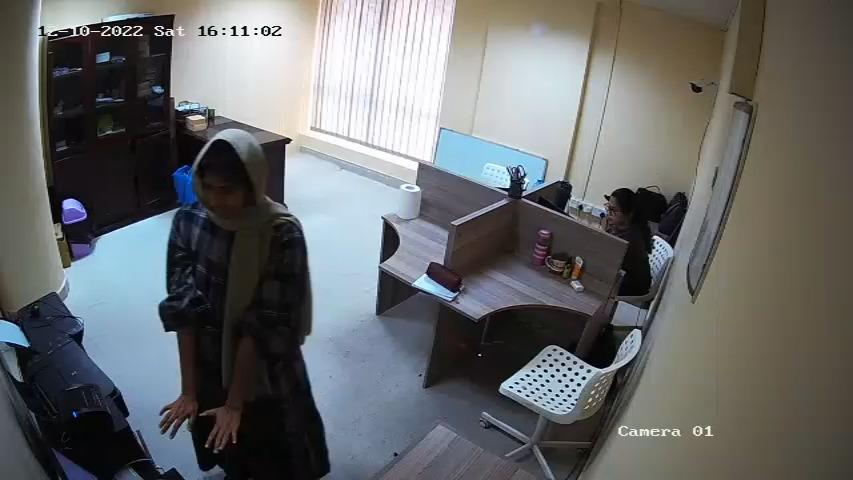no_gloves: (200, 400, 246, 459), (155, 386, 197, 440)
